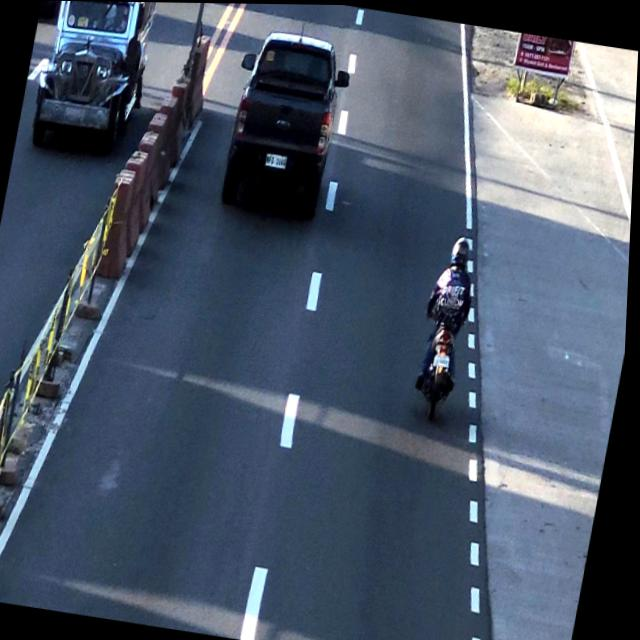Car: (223, 25, 351, 219)
License-Plate: (265, 151, 291, 172), (435, 352, 458, 369)
Motorcycle: (416, 235, 483, 426)
